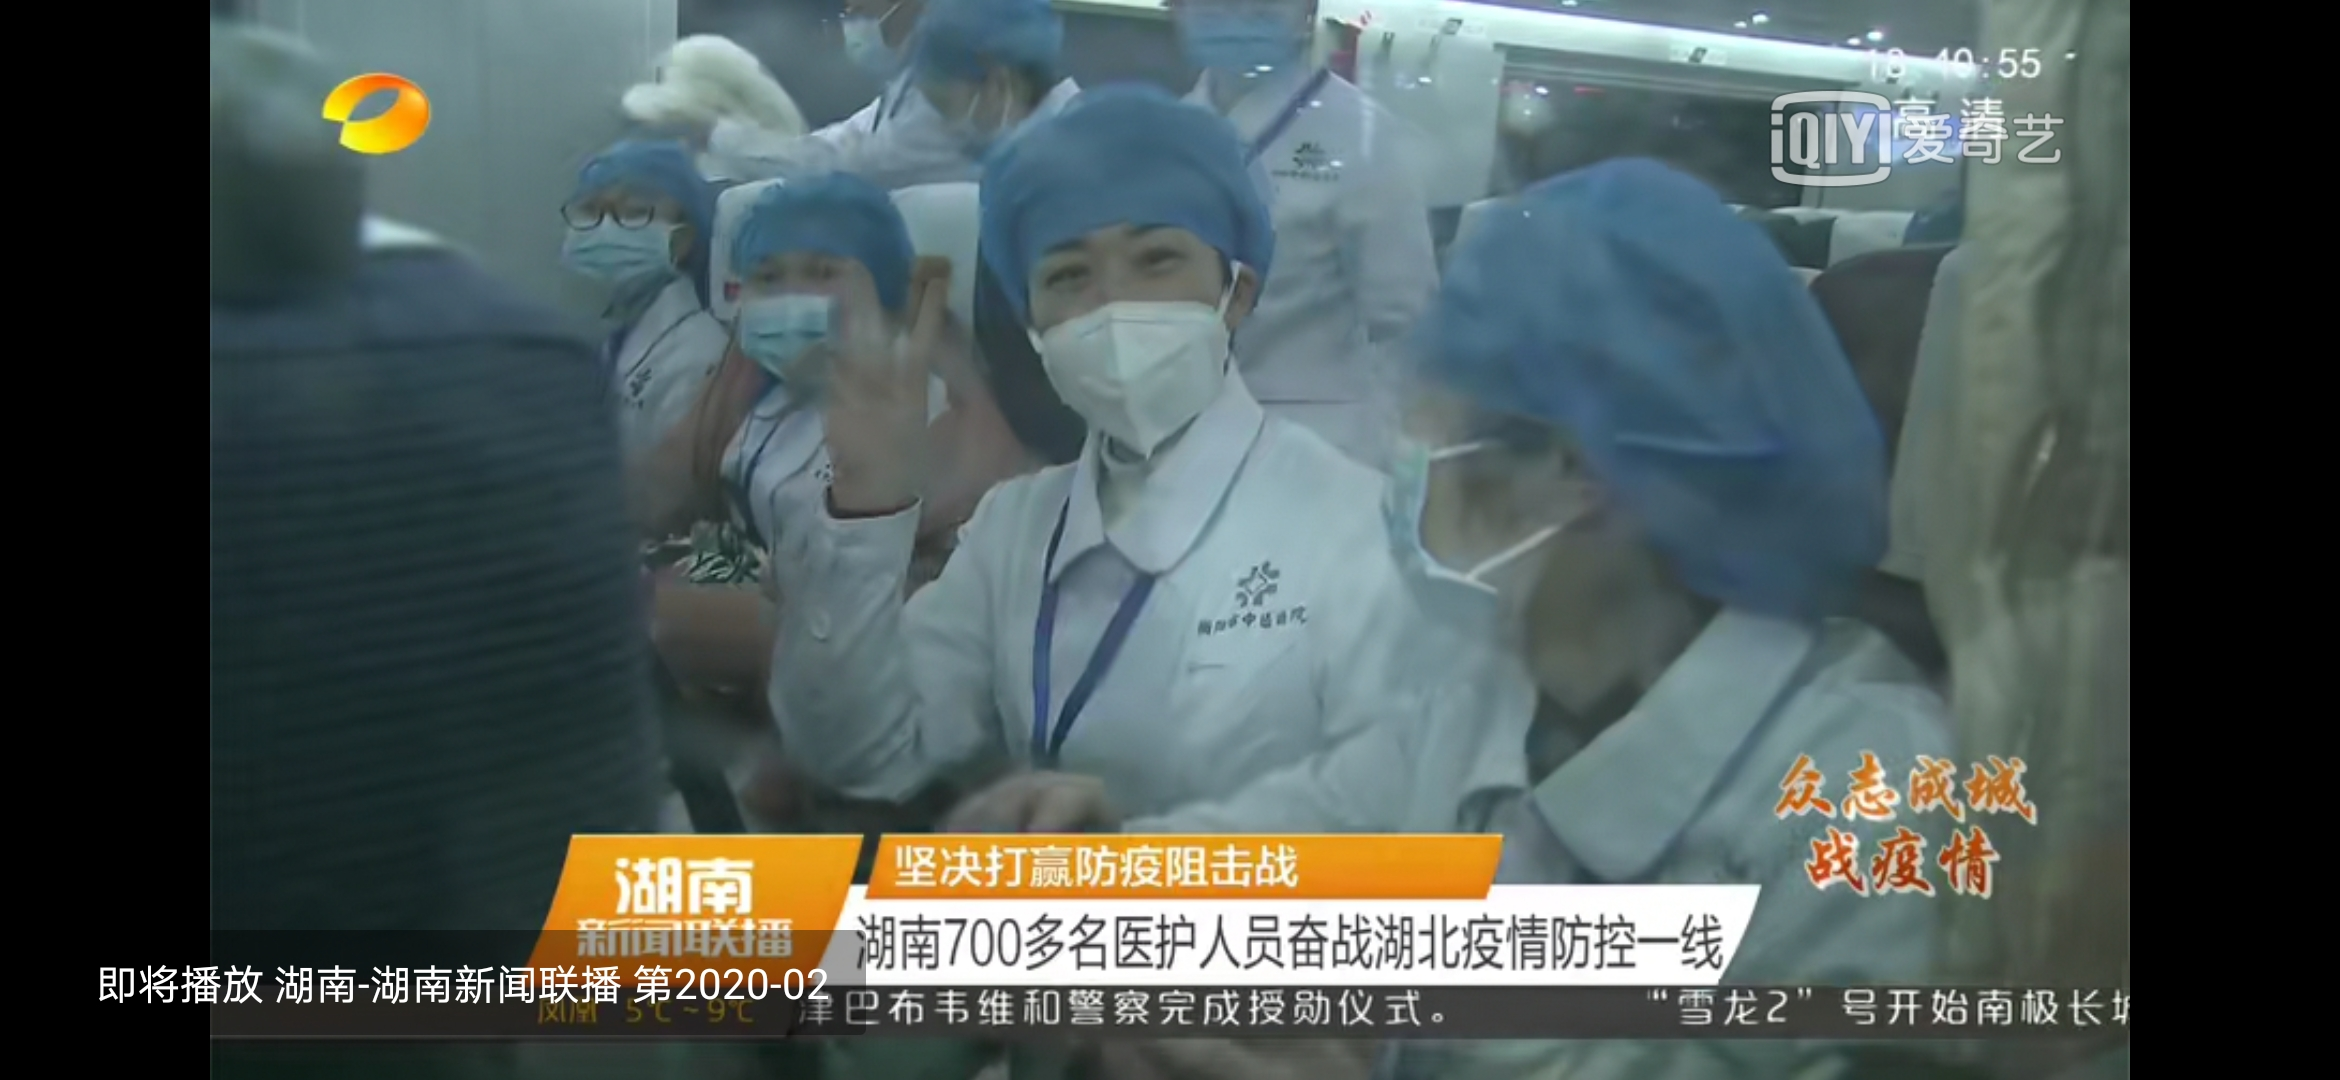correctlyWear: (1376, 385, 1674, 692), (1022, 225, 1266, 468), (554, 186, 695, 309), (731, 254, 839, 392), (921, 63, 1030, 157), (1180, 7, 1307, 84), (836, 3, 916, 67)
